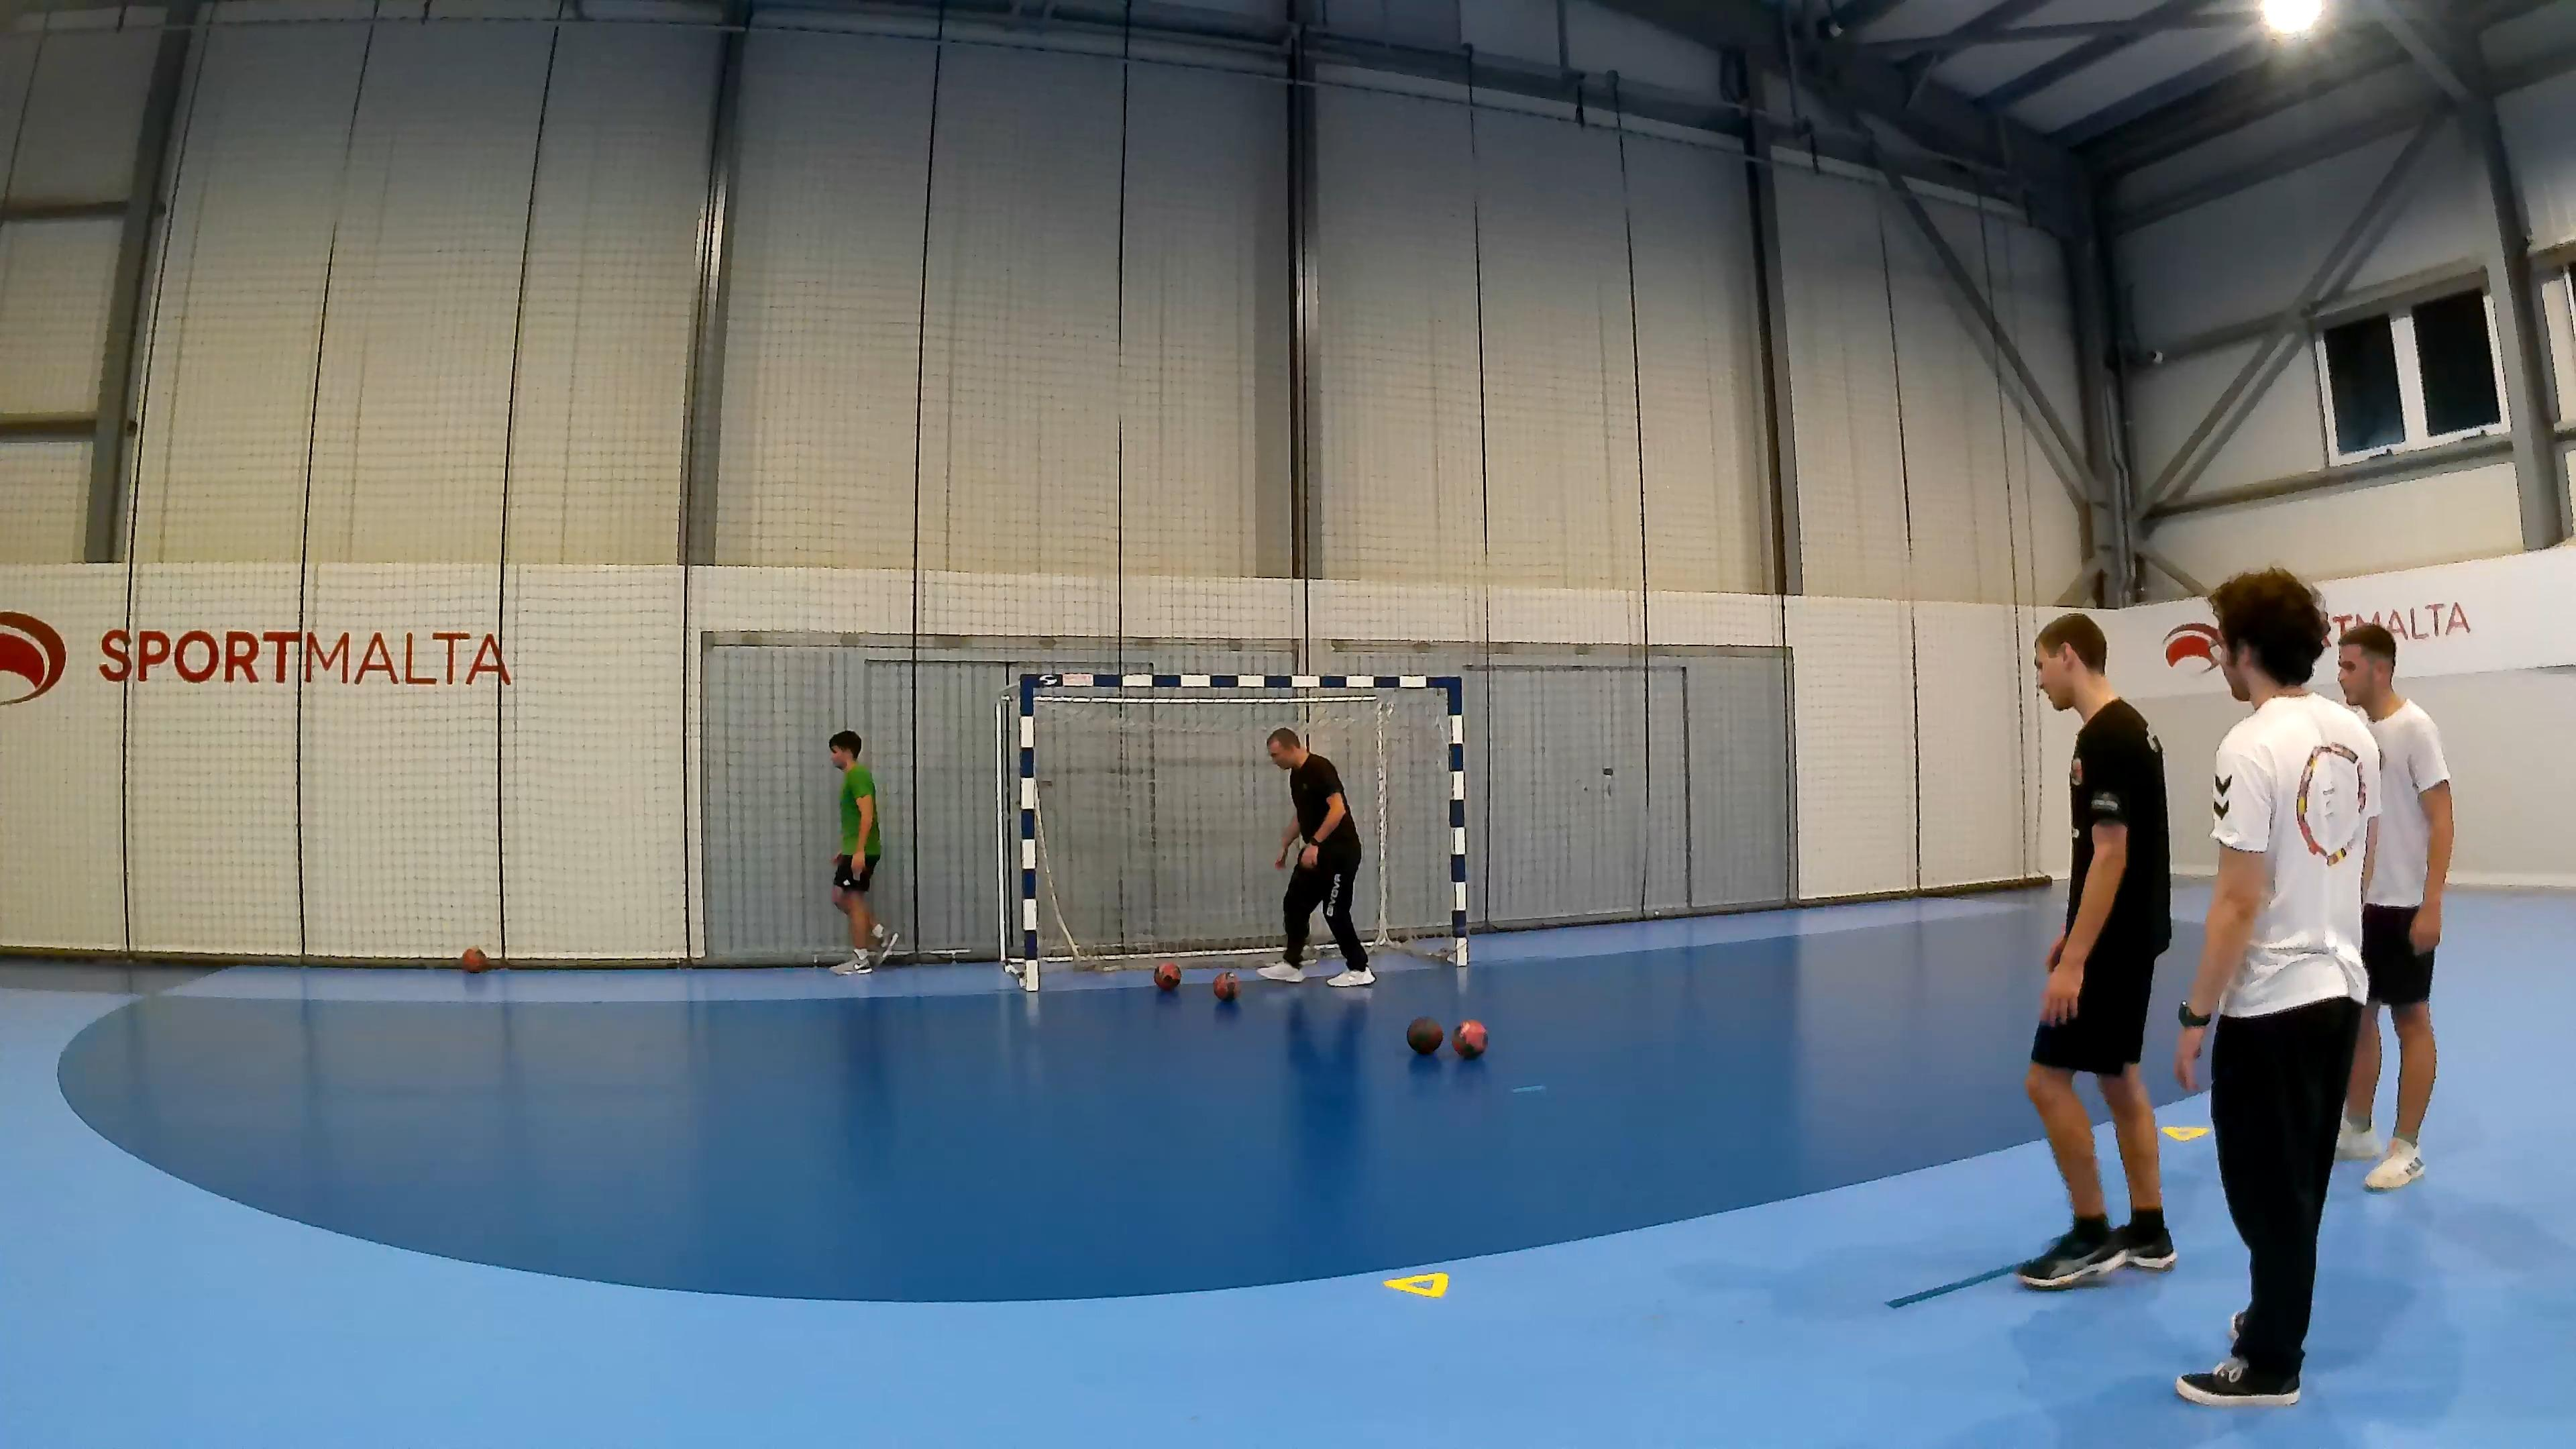handball: (1407, 1016, 1444, 1054), (1453, 1019, 1488, 1058), (1152, 961, 1180, 989), (1212, 970, 1238, 1000)
